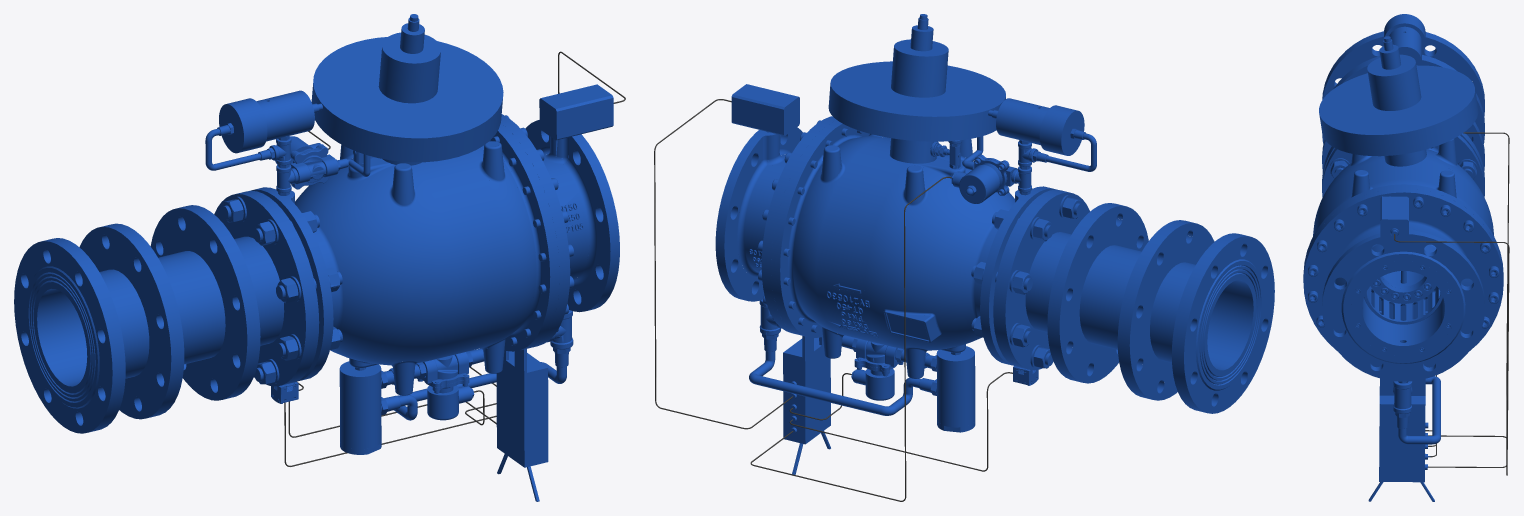
Rendered from 爆管阀+伸缩节.glb.
3 renders of one model, left to right at view 1: azimuth 30°, elevation 25°; view 2: azimuth 150°, elevation 25°; view 3: azimuth 270°, elevation 25°, orthographic. The views are drawn at different scales.
Parts seen in each view (by area): view 1: 爆管阀带伸缩节.SLDPRT; view 2: 爆管阀带伸缩节.SLDPRT; view 3: 爆管阀带伸缩节.SLDPRT.
Boxes of the visible parts, x1,y1,x2,y2 form: 爆管阀带伸缩节.SLDPRT: (14,14,625,501); 爆管阀带伸缩节.SLDPRT: (654,14,1274,501); 爆管阀带伸缩节.SLDPRT: (1303,14,1509,501).
Bounding box in the file's own units: 0.9365 × 0.8077 × 0.3602.
